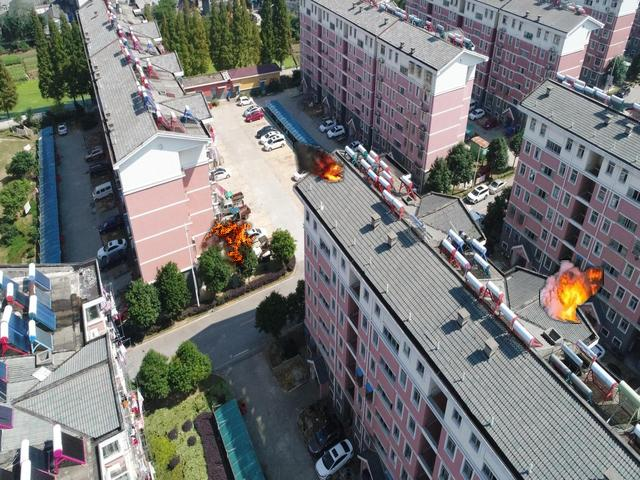fire: (540, 260, 602, 322), (200, 215, 257, 268), (294, 140, 345, 182)
